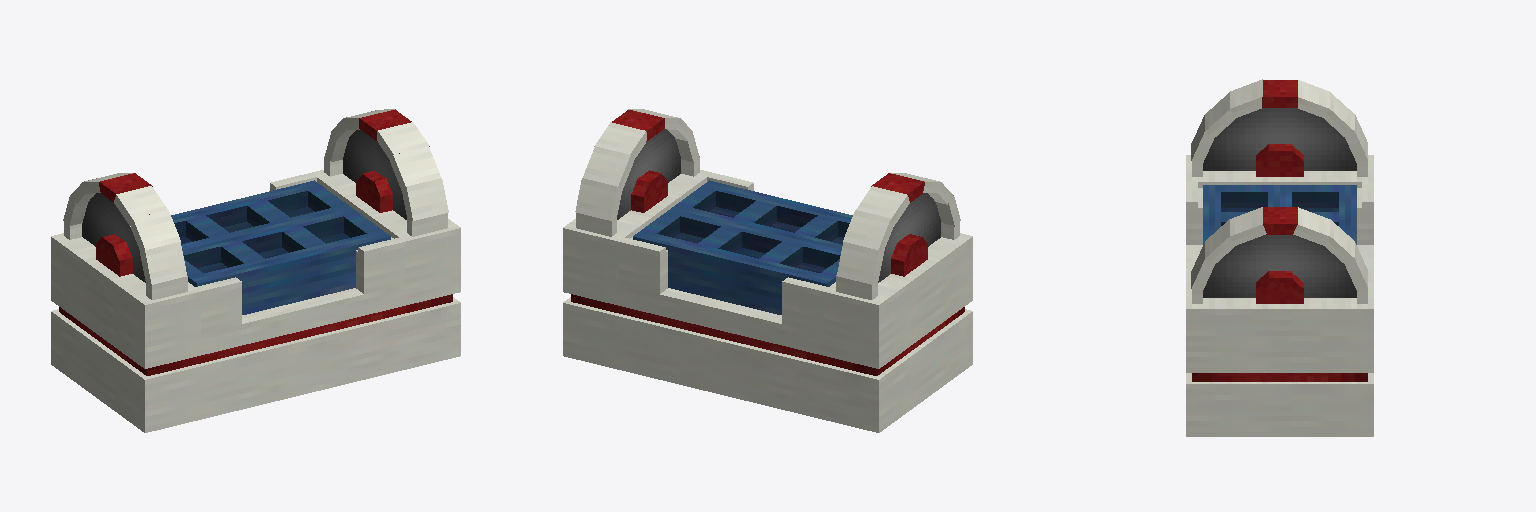
The picture shows the model from 3 angles: view 1: azimuth 30°, elevation 25°; view 2: azimuth 150°, elevation 25°; view 3: azimuth 270°, elevation 25°; orthographic projection.
Parts seen in each view (by area): view 1: Element #1, Element #22, Element #15, Element #19, Element #16, Element #2, Element #3, Element #23, Element #4, Element #17, Element #13, Element #29 (+18 smaller); view 2: Element #1, Element #22, Element #15, Element #19, Element #16, Element #4, Element #3, Element #23, Element #2, Element #18, Element #14, Element #34 (+18 smaller); view 3: Element #1, Element #19, Element #22, Element #41, Element #61, Element #15, Element #23, Element #9, Element #11, Element #30, Element #51, Element #53 (+21 smaller).
Part boxes in pixels (bbox=[...]): Element #1: bbox=[51, 297, 460, 432]; Element #22: bbox=[51, 271, 460, 368]; Element #15: bbox=[51, 233, 200, 347]; Element #19: bbox=[312, 170, 460, 283]; Element #16: bbox=[180, 207, 355, 314]; Element #2: bbox=[189, 230, 390, 288]; Element #3: bbox=[181, 204, 357, 267]; Element #23: bbox=[59, 294, 452, 375]; Element #4: bbox=[171, 180, 322, 237]; Element #17: bbox=[358, 238, 404, 293]; Element #13: bbox=[196, 277, 241, 333]; Element #29: bbox=[140, 242, 186, 284]; Element #1: bbox=[563, 297, 972, 432]; Element #22: bbox=[563, 271, 972, 368]; Element #15: bbox=[823, 233, 972, 347]; Element #19: bbox=[563, 170, 711, 283]; Element #16: bbox=[668, 207, 843, 314]; Element #4: bbox=[633, 230, 834, 288]; Element #3: bbox=[666, 204, 842, 267]; Element #23: bbox=[571, 294, 964, 375]; Element #2: bbox=[701, 180, 852, 237]; Element #18: bbox=[619, 238, 665, 293]; Element #14: bbox=[782, 277, 827, 333]; Element #34: bbox=[837, 242, 884, 284]; Element #1: bbox=[1186, 373, 1373, 436]; Element #19: bbox=[1186, 282, 1373, 351]; Element #22: bbox=[1186, 245, 1373, 372]; Element #41: bbox=[1239, 108, 1320, 170]; Element #61: bbox=[1239, 235, 1320, 297]; Element #15: bbox=[1186, 155, 1373, 187]; Element #23: bbox=[1192, 373, 1367, 381]; Element #9: bbox=[1221, 185, 1267, 207]; Element #11: bbox=[1292, 185, 1338, 207]; Element #30: bbox=[1262, 80, 1297, 107]; Element #51: bbox=[1230, 207, 1266, 245]; Element #53: bbox=[1293, 207, 1329, 246].
Size of the model in its own units: 31 by 19.52 by 16.
1 materials, 1 textured.